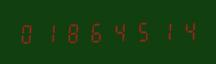eight: (63, 20, 85, 44)
five: (132, 19, 154, 43)
four: (109, 19, 131, 43), (178, 18, 200, 42)
one: (40, 21, 62, 44), (155, 19, 177, 42)
six: (86, 20, 108, 43)
zero: (17, 21, 39, 45)
